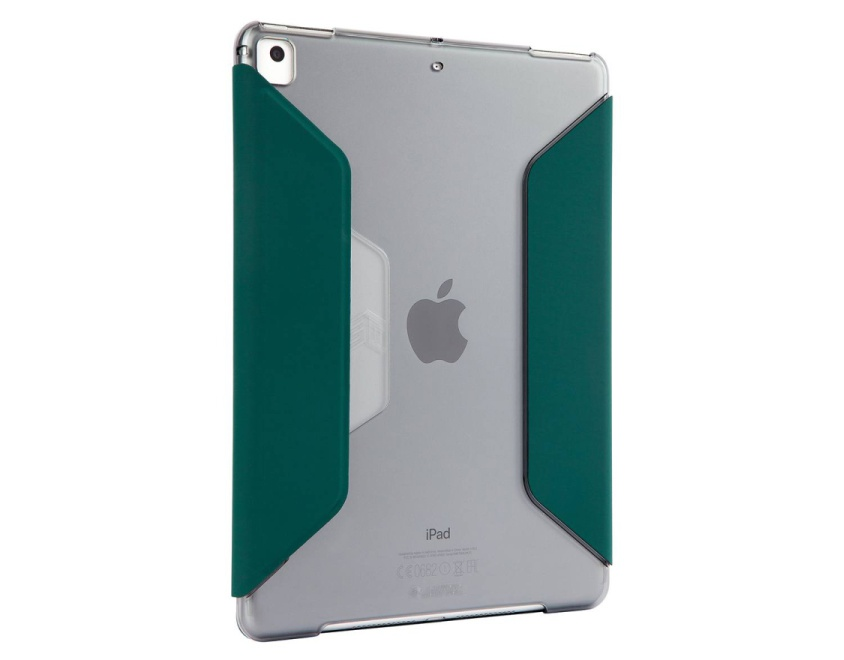apple: (403, 258, 478, 372)
